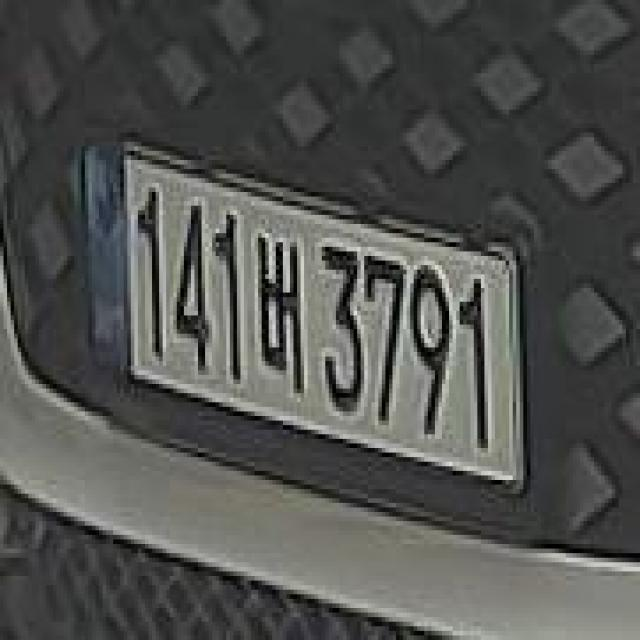illegal_plate: (67, 125, 535, 528)
